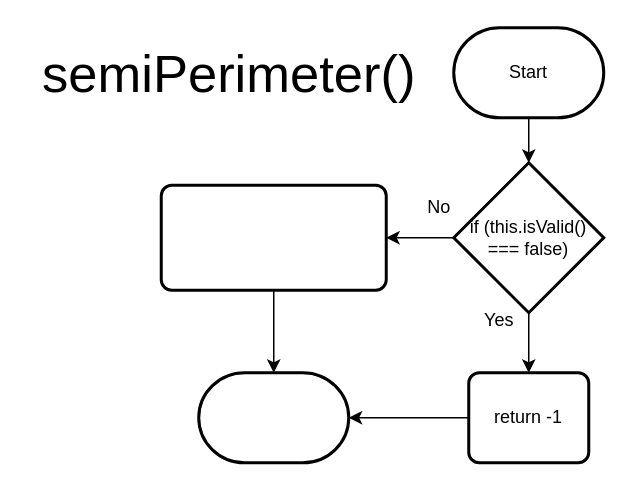
Image size: 630x489. Some labels were removed from this diagram. Here are the shapes that lost their labels. From the top down, the box of each, then its label:
(159, 183, 387, 291): return (this.sideA + this.sideB + this.sideC) / 2
(196, 370, 350, 464): Stop
